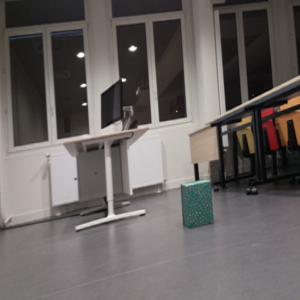small: (180, 178, 217, 230)
